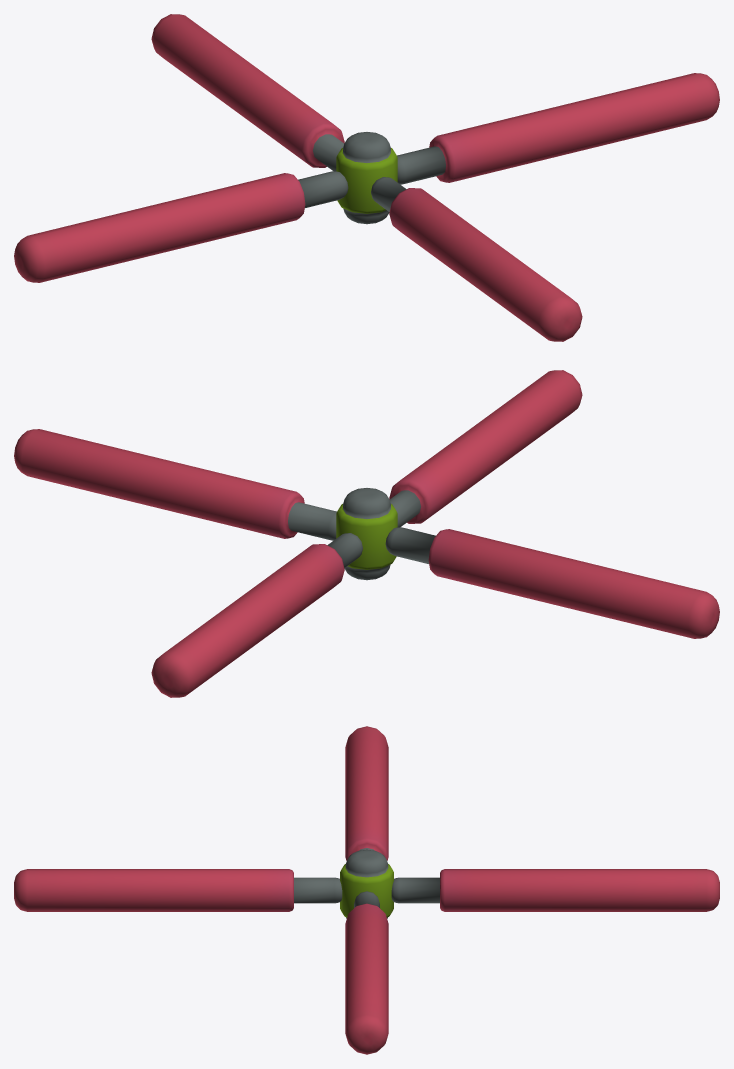
The model's file is rotating.fbx.
The picture shows the model from 3 angles, top to bottom: view 1: azimuth 30°, elevation 25°; view 2: azimuth 150°, elevation 25°; view 3: azimuth 270°, elevation 25°; orthographic projection. The views are drawn at different scales.
Visible parts, largest first — view 1: rotating; view 2: rotating; view 3: rotating.
Boxes of the visible parts, bbox=[...] form: rotating: bbox=[14, 14, 719, 341]; rotating: bbox=[14, 370, 719, 697]; rotating: bbox=[14, 726, 719, 1054].
Size of the model in its own units: 1138 by 126 by 1138.
1 material, 1 textured.
